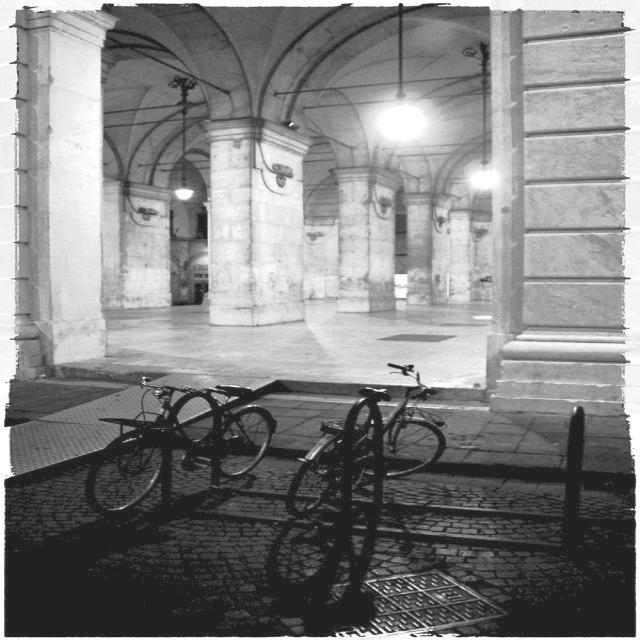Bicycle: (84, 372, 291, 521), (283, 359, 442, 513)
